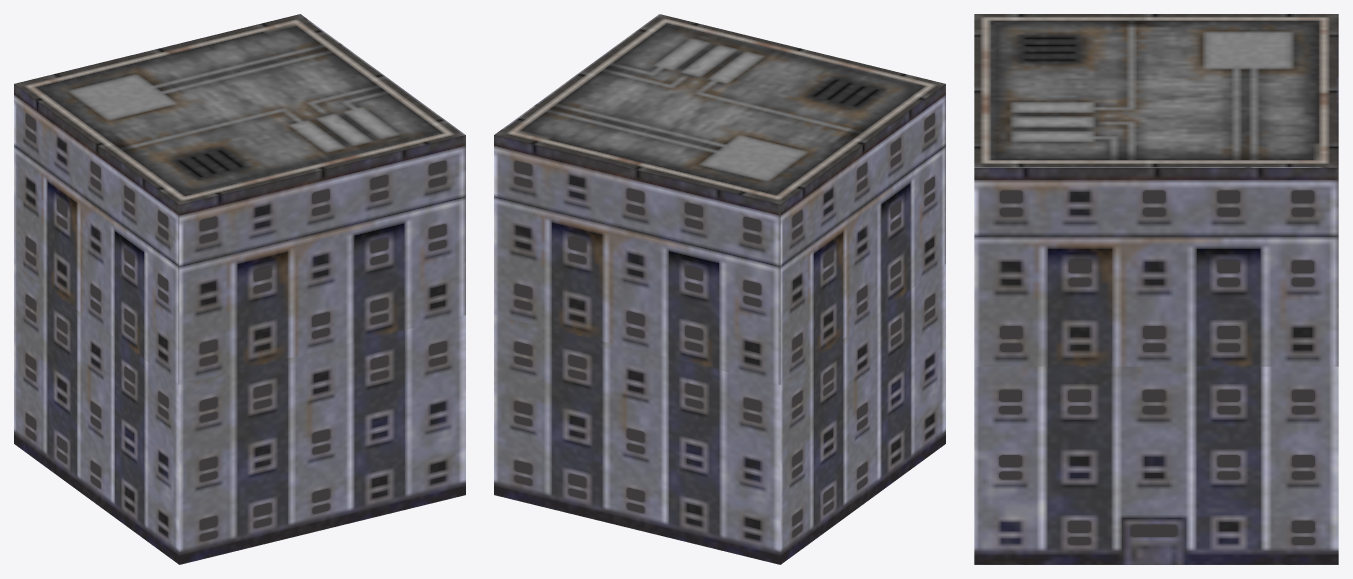
File: city6storyc.glb
3 views of the same model, side by side, from view 1: azimuth 30°, elevation 25°; view 2: azimuth 150°, elevation 25°; view 3: azimuth 270°, elevation 25° (orthographic). The views are drawn at different scales.
Parts seen in each view (by area): view 1: CityBlock8Story_A01, LitWin_City6Story; view 2: CityBlock8Story_A01, LitWin_City6Story; view 3: CityBlock8Story_A01, LitWin_City6Story.
Boxes of the visible parts, x1,y1,x2,y2 form: CityBlock8Story_A01: [14, 14, 465, 564]; LitWin_City6Story: [25, 113, 446, 541]; CityBlock8Story_A01: [494, 14, 945, 564]; LitWin_City6Story: [514, 113, 934, 537]; CityBlock8Story_A01: [974, 14, 1338, 564]; LitWin_City6Story: [999, 190, 1314, 544].
Size of the model in its own units: 17.76 by 21.34 by 17.76.
Materials: 1 (1 with a texture image).
